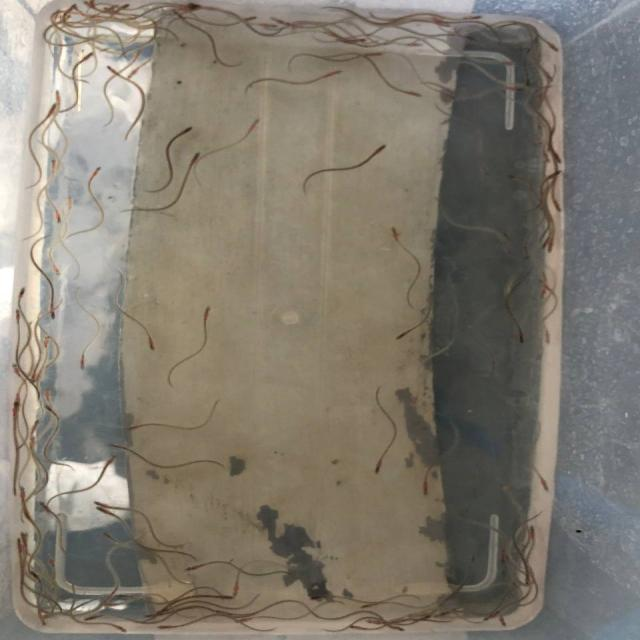glass_eel: (173, 1, 206, 16), (36, 332, 56, 350), (44, 300, 60, 322), (399, 87, 426, 100), (267, 14, 292, 28), (430, 18, 455, 32), (110, 1, 130, 18), (122, 67, 142, 84), (539, 236, 559, 253), (10, 308, 26, 329), (81, 48, 99, 66), (236, 14, 263, 26), (104, 64, 124, 80), (542, 40, 562, 56), (48, 257, 63, 278), (402, 36, 424, 50), (14, 285, 31, 303), (8, 360, 24, 379), (199, 302, 214, 322), (63, 2, 81, 18), (254, 20, 278, 32), (346, 34, 370, 46), (362, 48, 386, 60), (51, 85, 66, 104), (545, 168, 563, 183), (478, 163, 496, 178), (25, 431, 40, 449), (516, 328, 530, 347), (51, 206, 65, 225), (99, 530, 118, 544), (46, 100, 62, 116), (536, 236, 552, 252), (88, 164, 103, 181), (75, 354, 90, 371), (455, 34, 480, 44), (541, 149, 556, 165), (387, 224, 403, 239), (144, 336, 159, 352), (248, 115, 262, 132), (550, 148, 564, 165), (15, 483, 29, 500), (391, 330, 409, 343), (47, 157, 60, 175), (190, 147, 204, 163), (10, 399, 23, 416), (507, 83, 527, 94), (174, 124, 195, 134), (462, 12, 483, 22), (105, 441, 124, 452), (322, 69, 345, 78), (551, 201, 568, 213), (372, 143, 392, 153), (541, 331, 554, 346), (536, 277, 552, 289), (39, 402, 55, 414), (29, 417, 41, 433), (503, 172, 522, 182), (522, 72, 535, 86), (26, 570, 41, 582), (12, 536, 23, 552), (91, 505, 110, 514), (363, 617, 384, 625), (421, 483, 432, 498), (42, 386, 52, 402), (90, 500, 110, 508), (374, 460, 384, 476), (540, 479, 552, 492), (18, 530, 29, 544), (230, 584, 241, 598), (126, 423, 142, 432), (82, 613, 98, 622), (143, 610, 159, 619), (481, 613, 497, 622), (535, 288, 548, 299), (36, 500, 49, 511), (46, 555, 56, 569), (497, 618, 511, 628), (528, 523, 538, 537), (518, 250, 529, 262), (116, 625, 128, 636), (522, 575, 534, 586), (217, 593, 233, 601), (183, 565, 199, 573), (390, 626, 408, 633), (359, 602, 376, 609), (108, 454, 117, 466), (212, 608, 227, 615), (234, 617, 249, 624), (497, 554, 507, 564), (310, 595, 326, 601), (348, 624, 364, 630), (101, 601, 116, 607), (157, 624, 172, 630)
